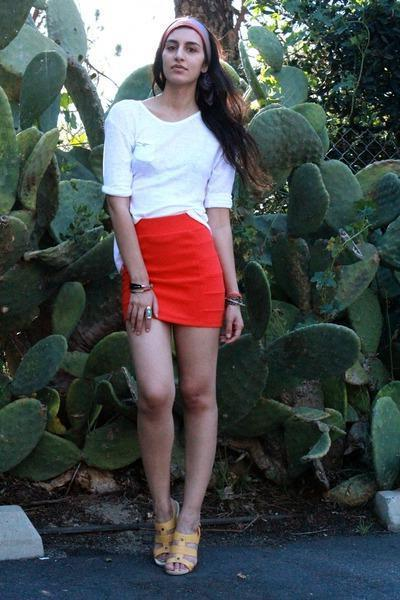short sleeve shirt: (102, 97, 248, 225)
skirt: (117, 209, 230, 330)
